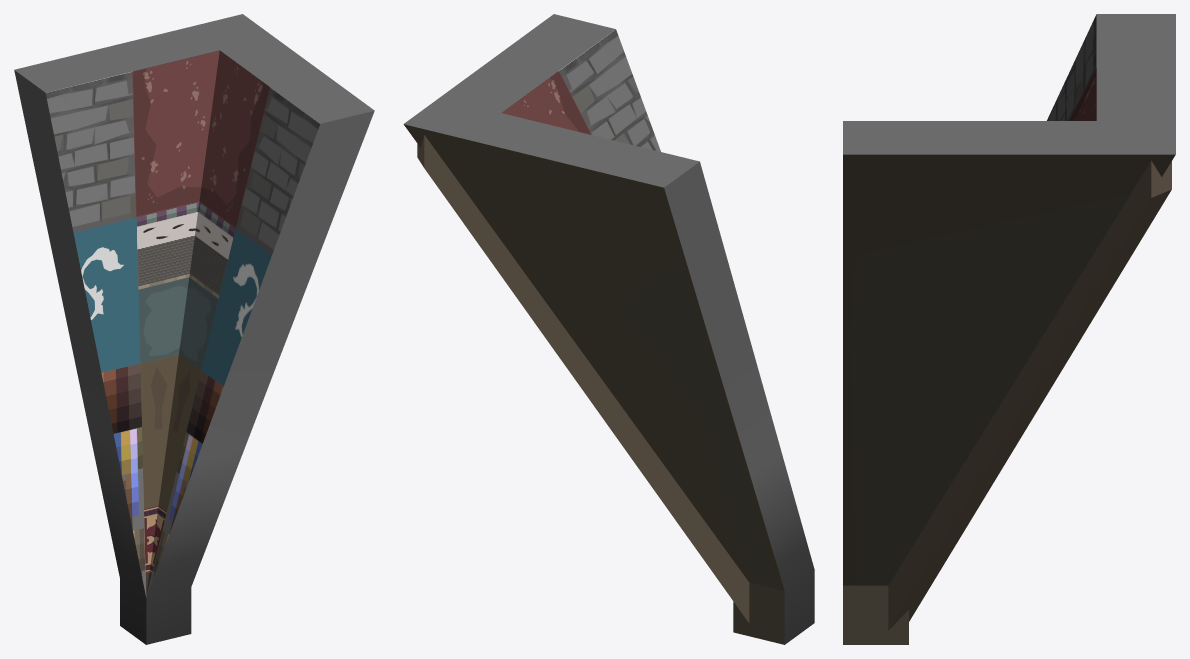
The model's file is kingdom_SM_Bld_Castle_Roof_S_Corner_Inner_01.gltf.
The picture shows the model from 3 angles, left to right: view 1: azimuth 30°, elevation 25°; view 2: azimuth 150°, elevation 25°; view 3: azimuth 270°, elevation 25°; orthographic projection. The views are drawn at different scales.
Visible parts, largest first — view 1: SM_Bld_Castle_Roof_S_Corner_Inner_01; view 2: SM_Bld_Castle_Roof_S_Corner_Inner_01; view 3: SM_Bld_Castle_Roof_S_Corner_Inner_01.
Boxes of the visible parts, x1,y1,x2,y2 form: SM_Bld_Castle_Roof_S_Corner_Inner_01: (14,14,374,644); SM_Bld_Castle_Roof_S_Corner_Inner_01: (403,14,814,644); SM_Bld_Castle_Roof_S_Corner_Inner_01: (843,14,1175,644).
Size of the model in its own units: 2.5 by 5 by 2.5.
2 materials, 2 textured.
